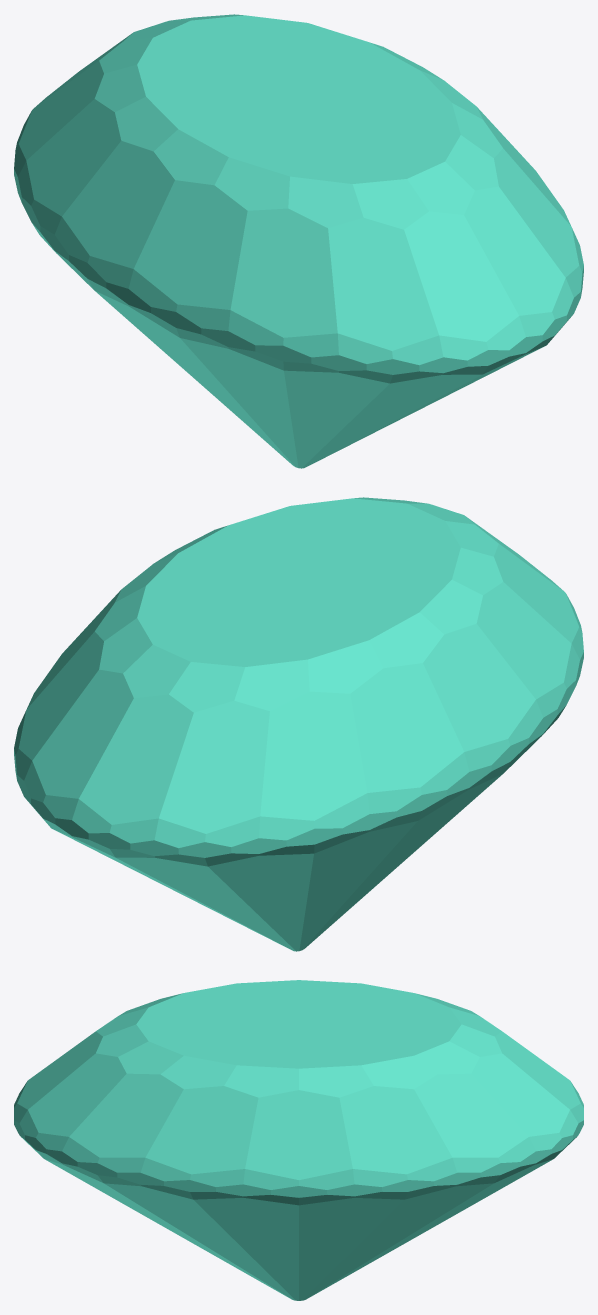
File: oval.glb
The picture shows the model from 3 angles, top to bottom: view 1: azimuth 30°, elevation 25°; view 2: azimuth 150°, elevation 25°; view 3: azimuth 270°, elevation 25°; orthographic projection. The views are drawn at different scales.
Visible parts, largest first — view 1: Prism_oval; view 2: Prism_oval; view 3: Prism_oval.
Part boxes in pixels (x1,y1,x2,y2): Prism_oval: (14,14,583,468); Prism_oval: (14,497,583,951); Prism_oval: (14,980,583,1300).
Bounding box in the file's own units: 1.55 × 1.28 × 2.41.
